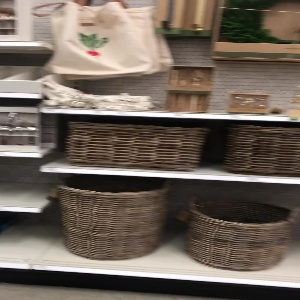void: (1, 211, 55, 264), (1, 158, 39, 207)
